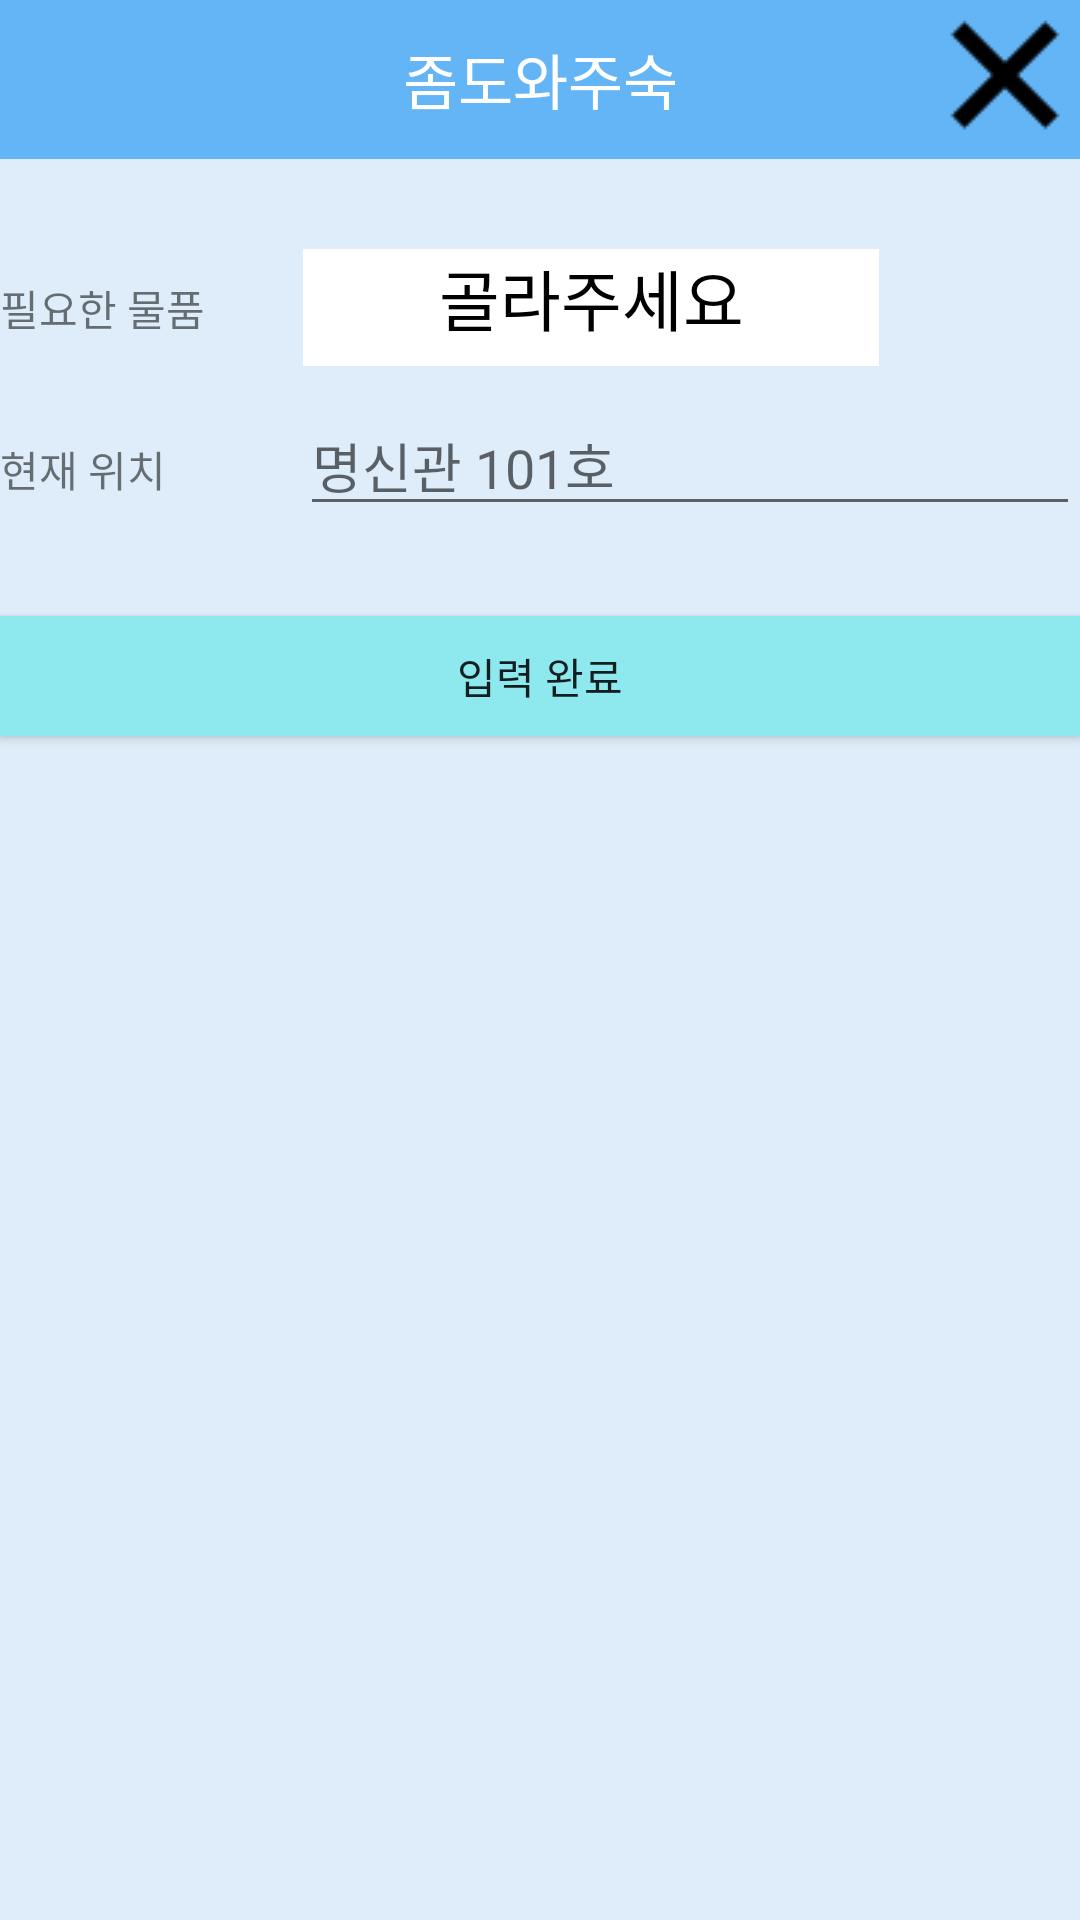

Icons on this 1080 × 1920 Android screen, each with the point to tap as [x,y]:
close clear cancel: [1005,75]
